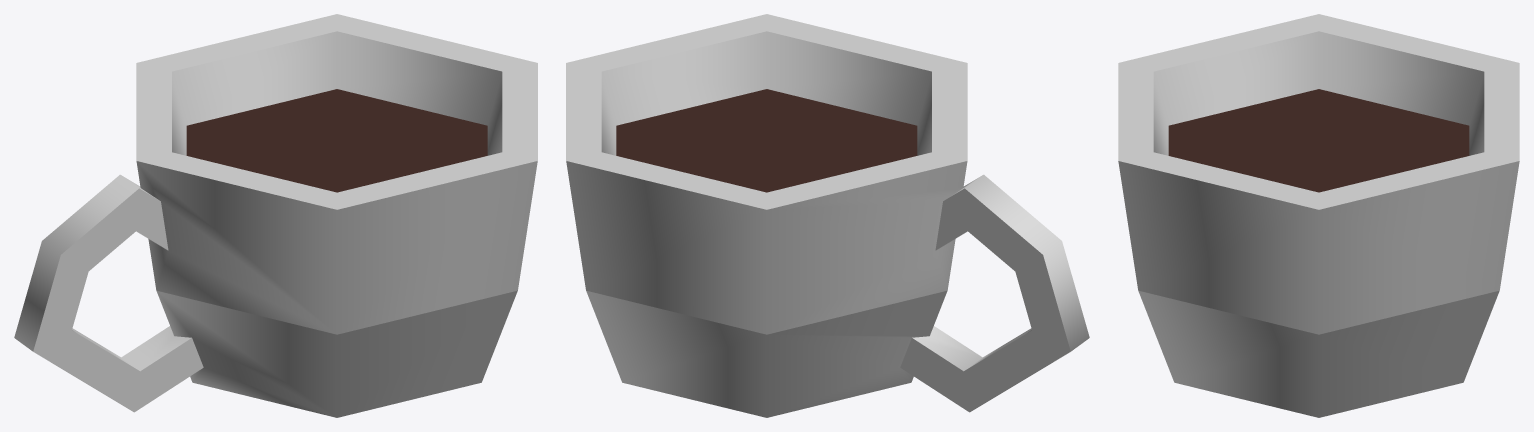
File: cupTea.GLB
3 views of the same model, side by side, from view 1: azimuth 30°, elevation 25°; view 2: azimuth 150°, elevation 25°; view 3: azimuth 270°, elevation 25° (orthographic).
Visible parts, largest first — view 1: cupTea; view 2: cupTea; view 3: cupTea.
Boxes of the visible parts, bbox=[...] form: cupTea: bbox=[14, 14, 537, 417]; cupTea: bbox=[566, 14, 1089, 417]; cupTea: bbox=[1118, 14, 1519, 417].
Size of the model in its own units: 0.3199 by 0.1438 by 0.2163.
